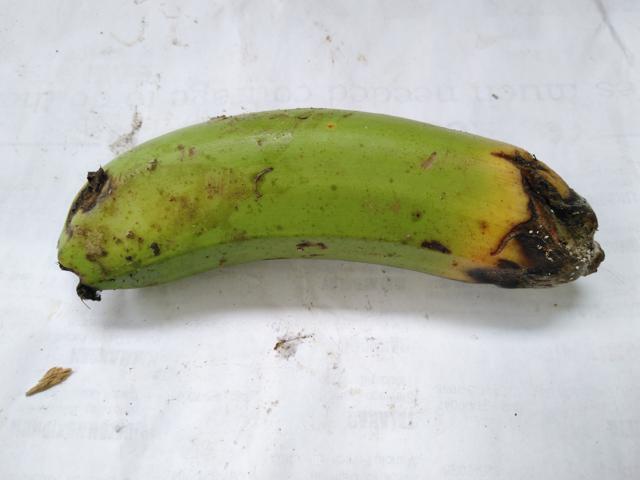rotten: (439, 127, 619, 310)
unripe: (44, 85, 503, 323)
